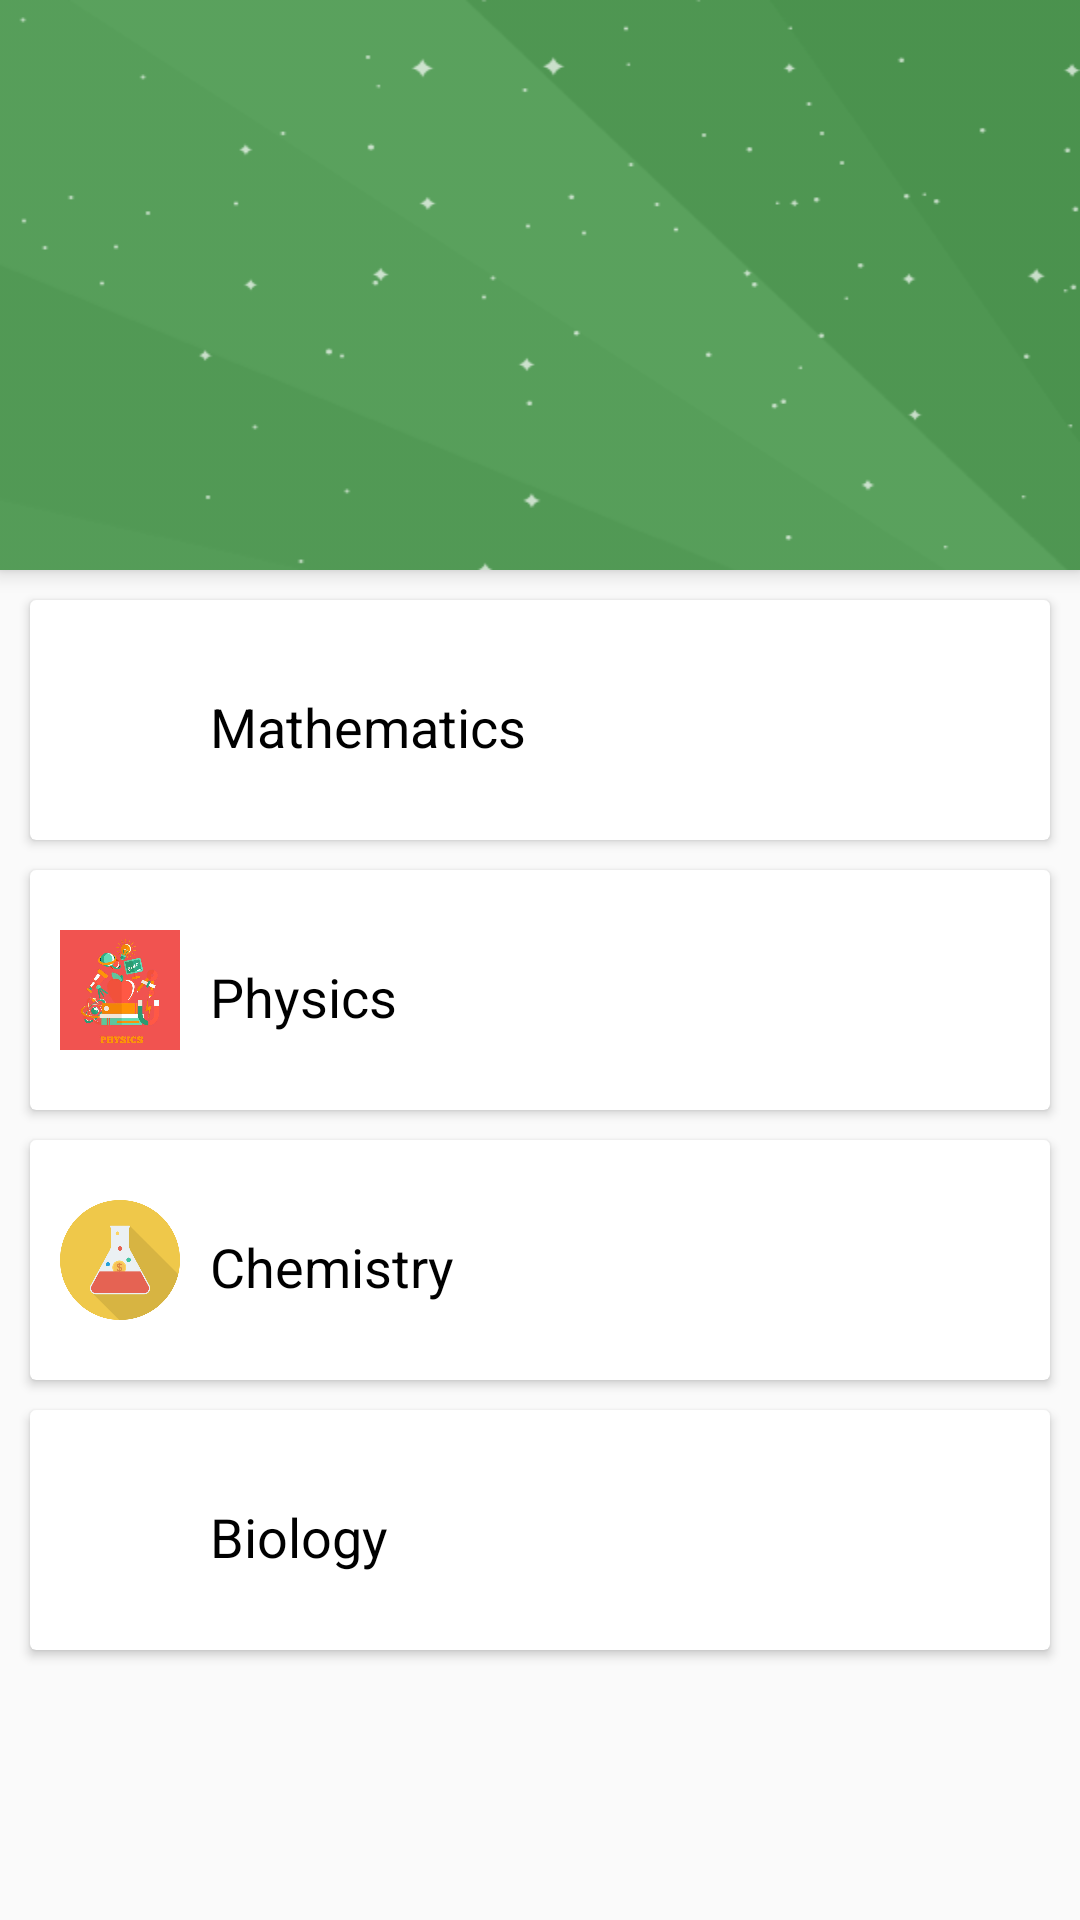

Locate icon controls on the screen. Image size 1080px×1920px, boxes as (x1, y1, x2, y2).
flask: (60, 1200, 180, 1320)
